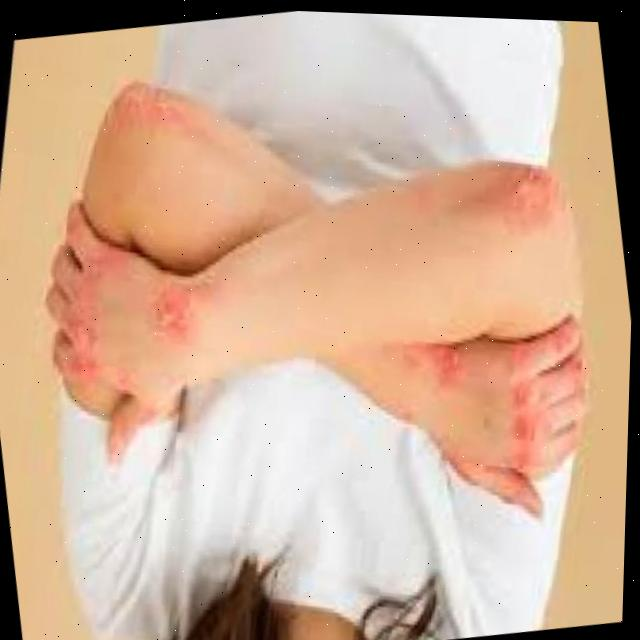Eczema: (31, 226, 218, 430), (405, 314, 614, 491), (457, 145, 577, 253), (105, 80, 197, 156)
